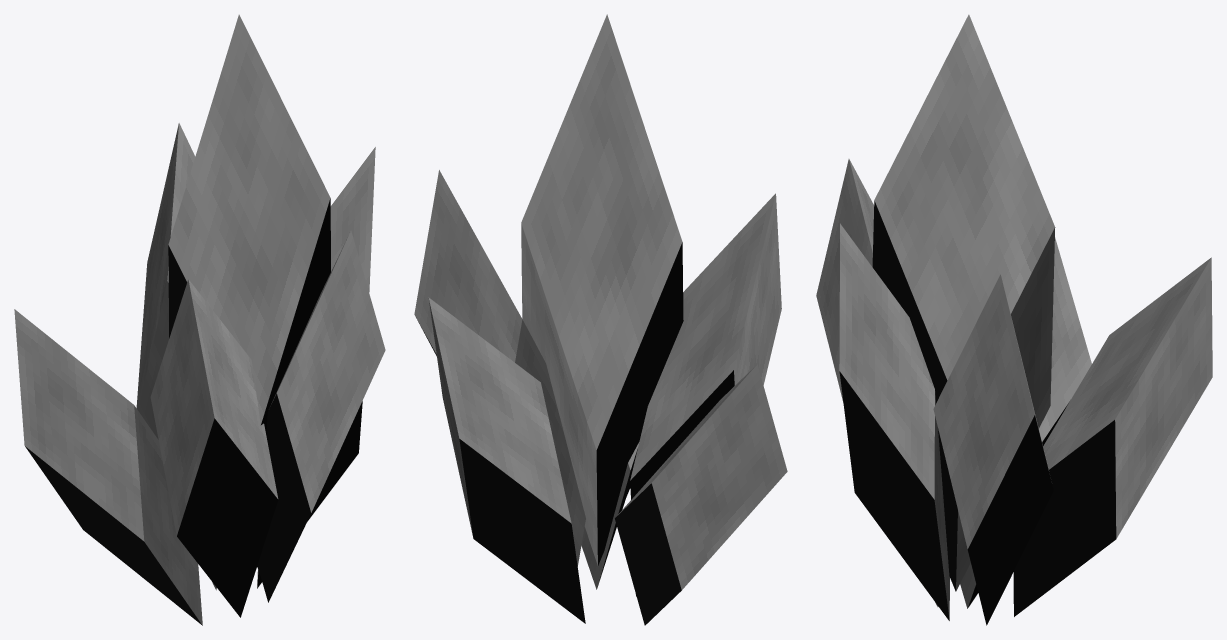
Rendered from fire_crystal_cluster.obj.
3 renders of one model, left to right at view 1: azimuth 30°, elevation 25°; view 2: azimuth 150°, elevation 25°; view 3: azimuth 270°, elevation 25°, orthographic.
Visible parts, largest first — view 1: part0, part4, part3, part5, part2, part1; view 2: part0, part2, part3, part4, part1, part5; view 3: part0, part2, part5, part1, part3, part4.
Part boxes in pixels (box(x1,y1,x2,y2)): part0: box(168, 14, 330, 569); part4: box(150, 279, 278, 617); part3: box(14, 309, 202, 625); part5: box(257, 230, 385, 602); part2: box(136, 123, 216, 590); part1: box(257, 147, 375, 588); part0: box(521, 14, 683, 565); part2: box(428, 297, 585, 623); part3: box(615, 364, 787, 625); part4: box(630, 193, 781, 596); part1: box(414, 170, 585, 566); part5: box(581, 442, 639, 589); part0: box(872, 14, 1055, 591); part2: box(1013, 257, 1212, 616); part5: box(839, 223, 949, 620); part1: box(933, 274, 1053, 625); part3: box(960, 237, 1091, 608); part4: box(816, 159, 938, 606).
Size of the model in its own units: 0.7158 by 1.15 by 0.6752.
